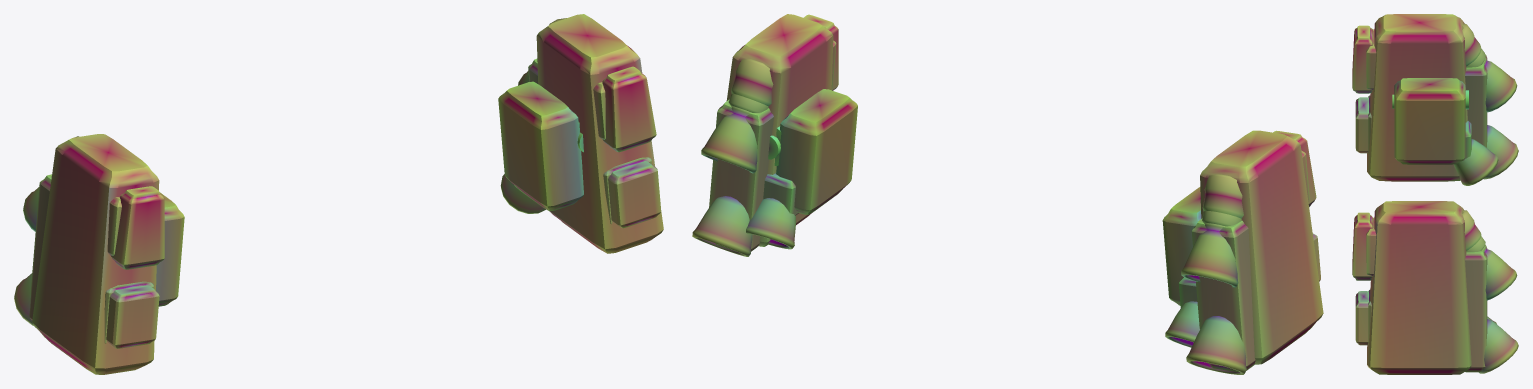
The model's file is llm_gen_leg_thrusters_038_ab1865.glb.
3 renders of one model, left to right at view 1: azimuth 30°, elevation 25°; view 2: azimuth 150°, elevation 25°; view 3: azimuth 270°, elevation 25°, orthographic. The views are drawn at different scales.
Visible parts, largest first — view 1: outer_shin_armor_0_wing_white_l, outer_shin_armor_0_wing_white_r, adapter_calf_clamp_r, knee_guard_blade_2_barrel_metal_l, knee_guard_blade_2_barrel_metal_r, lower_shin_bumper_4_barrel_metal_l, lower_shin_bumper_4_barrel_metal_r, adapter_calf_clamp_l, rear_thruster_manifold_dark_5_adapter_dark_l, addon_leg_bell_9_vernier_bell_vernier_r, rear_surge_bell_bot_7_vernier_bell_vernier_l, knee_guard_adapter_dark_1_adapter_dark_l (+1 smaller); view 2: outer_shin_armor_0_wing_white_l, adapter_calf_clamp_r, outer_shin_armor_0_wing_white_r, rear_thruster_manifold_dark_5_adapter_dark_l, rear_thruster_manifold_dark_5_adapter_dark_r, adapter_calf_clamp_l, rear_surge_bell_bot_7_vernier_bell_vernier_l, rear_surge_bell_bot_7_vernier_bell_vernier_r, rear_surge_bell_top_6_vernier_bell_vernier_r, rear_surge_bell_top_6_vernier_bell_vernier_l, addon_leg_bell_9_vernier_bell_vernier_r, rear_surge_bell_top_6_vernier_bell_gimbal_collar_dark_r (+5 smaller); view 3: outer_shin_armor_0_wing_white_r, outer_shin_armor_0_wing_white_l, adapter_calf_clamp_l, rear_thruster_manifold_dark_5_adapter_dark_r, rear_thruster_manifold_dark_5_adapter_dark_l, addon_leg_bell_9_vernier_bell_vernier_l, rear_surge_bell_bot_7_vernier_bell_vernier_r, knee_guard_blade_2_barrel_metal_l, rear_surge_bell_top_6_vernier_bell_vernier_l, knee_guard_blade_2_barrel_metal_r, rear_surge_bell_top_6_vernier_bell_vernier_r, rear_surge_bell_bot_7_vernier_bell_vernier_l (+11 smaller).
Part boxes in pixels (<box>): outer_shin_armor_0_wing_white_l: <box>32,134,159,374</box>; outer_shin_armor_0_wing_white_r: <box>536,14,663,253</box>; adapter_calf_clamp_r: <box>498,81,583,211</box>; knee_guard_blade_2_barrel_metal_l: <box>111,186,164,269</box>; knee_guard_blade_2_barrel_metal_r: <box>602,66,656,152</box>; lower_shin_bumper_4_barrel_metal_l: <box>106,285,159,348</box>; lower_shin_bumper_4_barrel_metal_r: <box>608,161,661,228</box>; adapter_calf_clamp_l: <box>156,192,184,306</box>; rear_thruster_manifold_dark_5_adapter_dark_l: <box>29,174,51,320</box>; addon_leg_bell_9_vernier_bell_vernier_r: <box>500,174,545,213</box>; rear_surge_bell_bot_7_vernier_bell_vernier_l: <box>14,273,33,325</box>; knee_guard_adapter_dark_1_adapter_dark_l: <box>107,197,121,255</box>; outer_shin_armor_0_wing_white_l: <box>1200,130,1323,364</box>; adapter_calf_clamp_r: <box>774,89,857,214</box>; outer_shin_armor_0_wing_white_r: <box>726,14,833,246</box>; rear_thruster_manifold_dark_5_adapter_dark_l: <box>1191,218,1255,371</box>; rear_thruster_manifold_dark_5_adapter_dark_r: <box>709,99,773,251</box>; adapter_calf_clamp_l: <box>1162,187,1201,305</box>; rear_surge_bell_bot_7_vernier_bell_vernier_l: <box>1186,316,1246,374</box>; rear_surge_bell_bot_7_vernier_bell_vernier_r: <box>692,196,752,256</box>; rear_surge_bell_top_6_vernier_bell_vernier_r: <box>701,105,757,173</box>; rear_surge_bell_top_6_vernier_bell_vernier_l: <box>1181,223,1238,287</box>; addon_leg_bell_9_vernier_bell_vernier_r: <box>746,198,795,249</box>; rear_surge_bell_top_6_vernier_bell_gimbal_collar_dark_r: <box>731,59,773,106</box>; outer_shin_armor_0_wing_white_r: <box>1367,201,1471,374</box>; outer_shin_armor_0_wing_white_l: <box>1367,14,1467,181</box>; adapter_calf_clamp_l: <box>1394,78,1465,164</box>; rear_thruster_manifold_dark_5_adapter_dark_r: <box>1465,246,1487,372</box>; rear_thruster_manifold_dark_5_adapter_dark_l: <box>1465,54,1487,147</box>; addon_leg_bell_9_vernier_bell_vernier_l: <box>1454,139,1498,185</box>; rear_surge_bell_bot_7_vernier_bell_vernier_r: <box>1479,319,1518,373</box>; knee_guard_blade_2_barrel_metal_l: <box>1352,25,1373,93</box>; rear_surge_bell_top_6_vernier_bell_vernier_l: <box>1482,56,1517,112</box>; knee_guard_blade_2_barrel_metal_r: <box>1352,212,1373,280</box>; rear_surge_bell_top_6_vernier_bell_vernier_r: <box>1482,245,1517,300</box>; rear_surge_bell_bot_7_vernier_bell_vernier_l: <box>1483,125,1518,179</box>.
Size of the model in its own units: 80.16 by 27.06 by 25.62.
